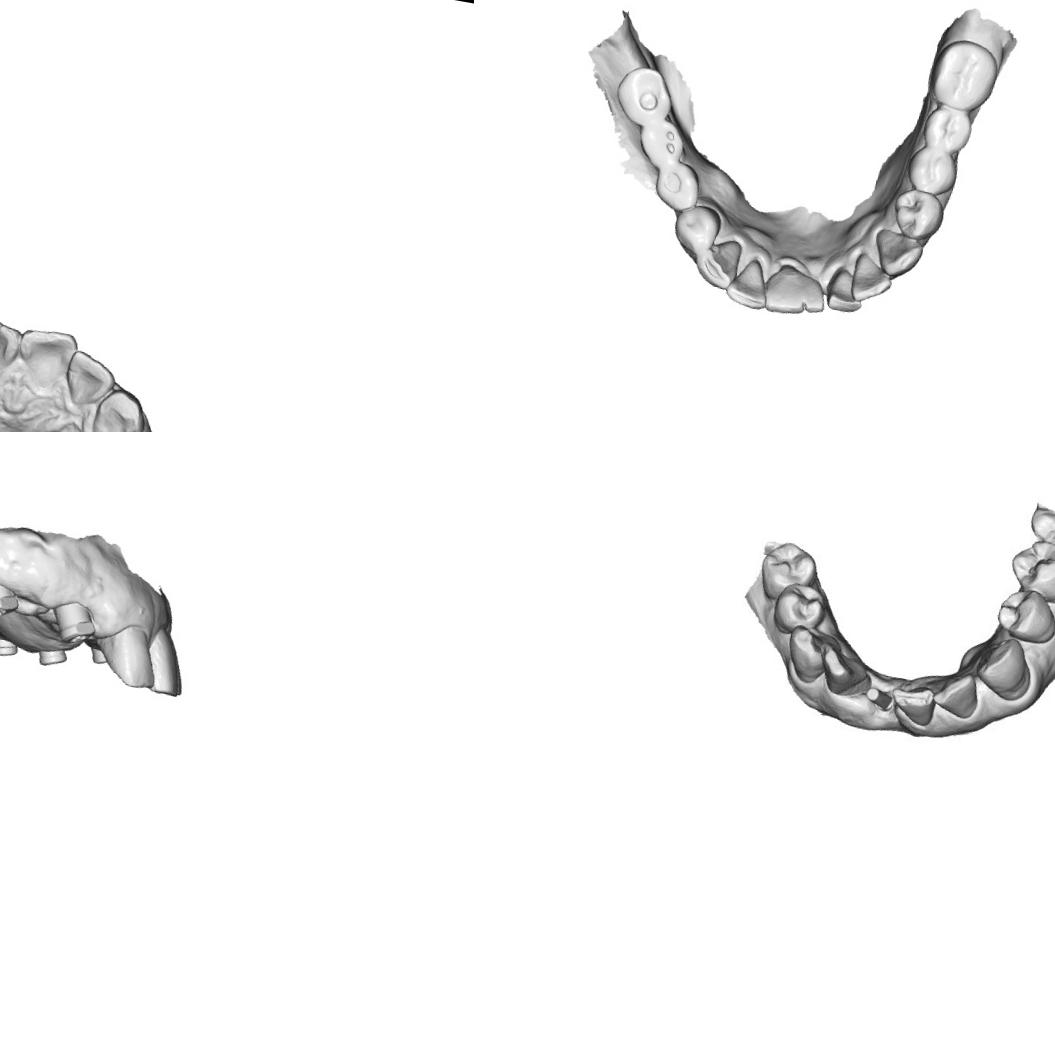abutment: (852, 677, 896, 720)
canine: (972, 632, 1036, 704), (867, 223, 935, 284), (686, 231, 746, 294), (88, 384, 152, 432), (784, 624, 836, 680)
implant: (53, 602, 97, 644), (0, 578, 22, 622), (36, 644, 70, 668), (0, 632, 19, 662)
incisor: (88, 618, 165, 694), (12, 323, 78, 387), (139, 630, 193, 700), (758, 256, 815, 320), (60, 344, 120, 404), (722, 250, 774, 313), (846, 249, 898, 308), (820, 260, 868, 316), (932, 674, 988, 722), (888, 683, 941, 733), (817, 649, 869, 696), (0, 310, 25, 372), (798, 276, 832, 316)
molar: (924, 34, 1000, 112), (610, 59, 680, 130), (914, 101, 976, 157), (636, 111, 693, 170)
premolar: (902, 143, 968, 205), (649, 157, 713, 219), (994, 586, 1055, 647), (1005, 532, 1055, 602), (670, 199, 728, 257), (891, 186, 949, 240), (761, 540, 813, 593), (774, 580, 824, 635)
